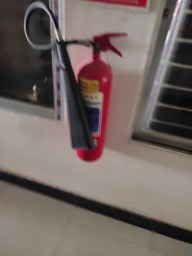fire_extinguisher: (24, 84, 122, 180)
